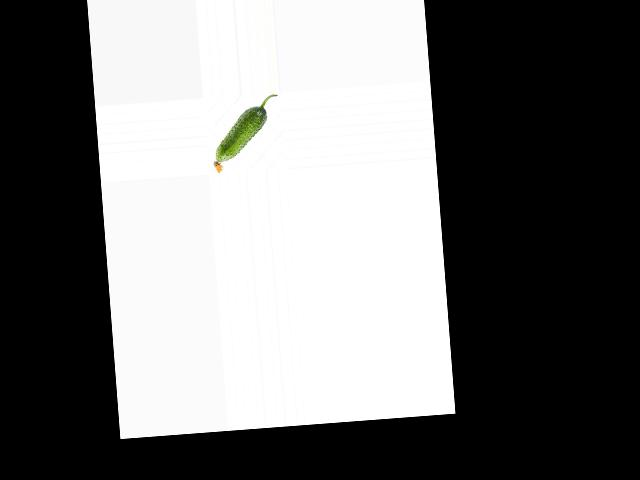cucumber: (208, 94, 282, 174)
